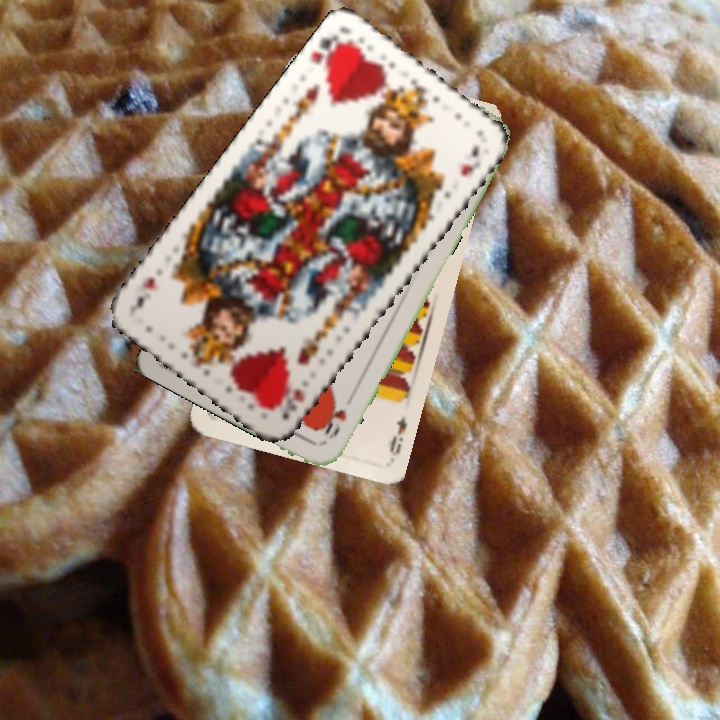E9: (385, 411, 410, 462)
HK: (307, 30, 351, 71), (269, 383, 308, 423)
HO: (317, 396, 349, 442)
